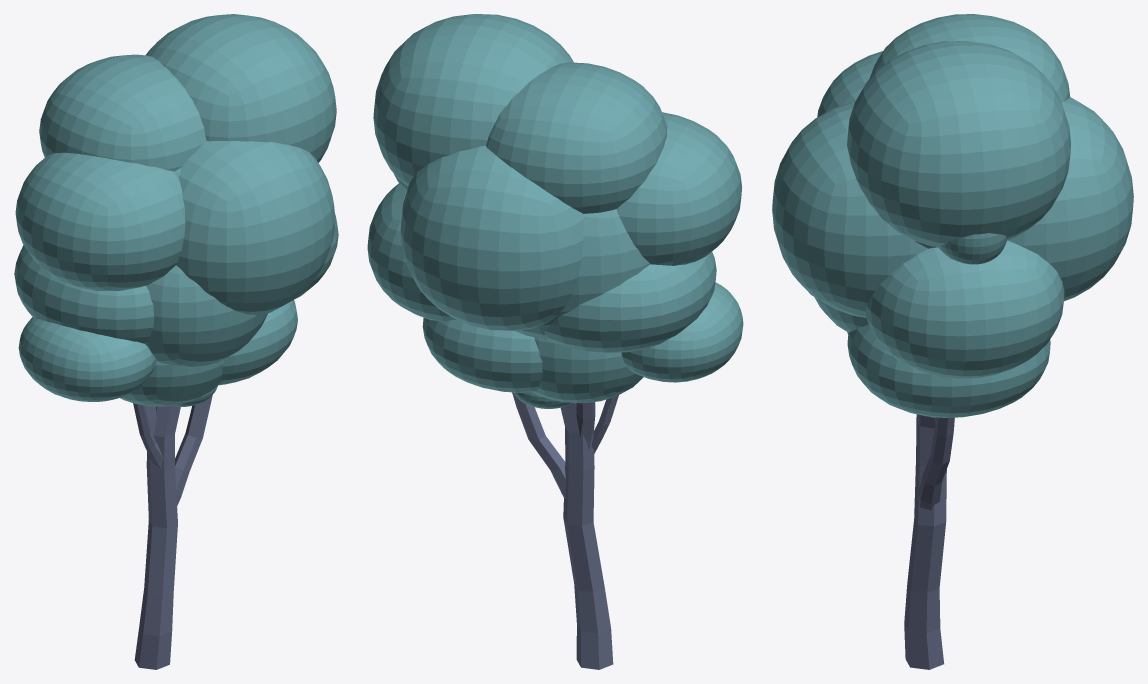
The model's file is Tree6.fbx.
The picture shows the model from 3 angles, left to right: view 1: azimuth 30°, elevation 25°; view 2: azimuth 150°, elevation 25°; view 3: azimuth 270°, elevation 25°; orthographic projection. The views are drawn at different scales.
Visible parts, largest first — view 1: Tree; view 2: Tree; view 3: Tree.
Boxes of the visible parts, x1,y1,x2,y2 form: Tree: (14,14,338,669); Tree: (367,14,743,669); Tree: (772,14,1133,669).
Bounding box in the file's own units: 2.75 × 5 × 2.49.
